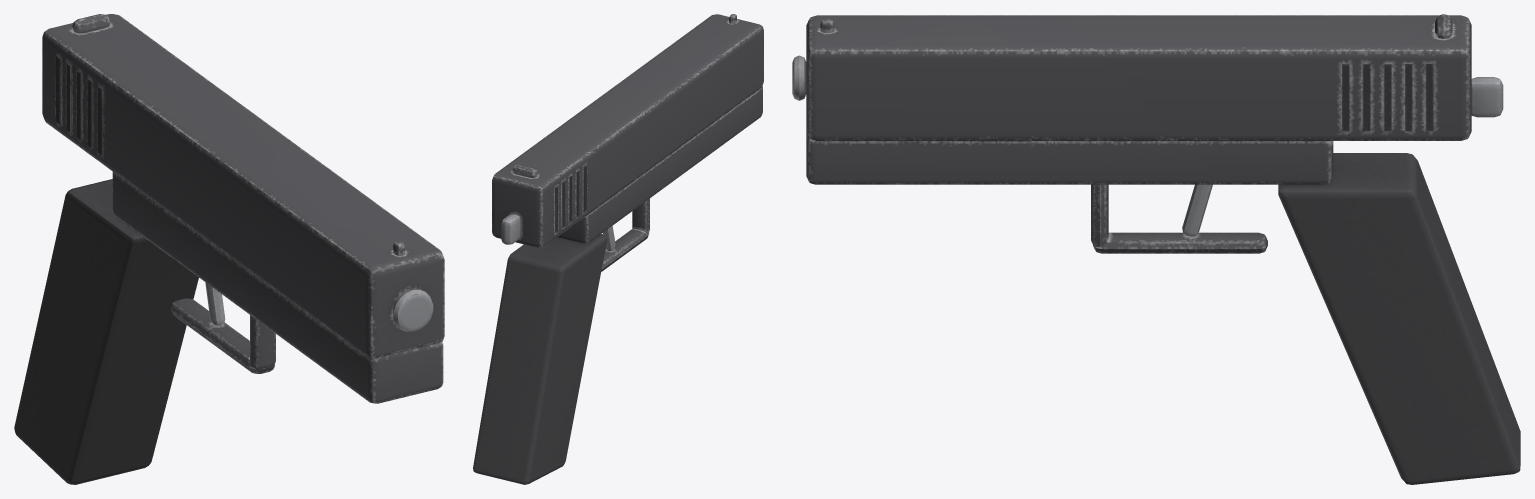
3 renders of one model, left to right at view 1: azimuth 30°, elevation 25°; view 2: azimuth 150°, elevation 25°; view 3: azimuth 270°, elevation 25°, orthographic. The views are drawn at different scales.
Parts seen in each view (by area): view 1: cz75; view 2: cz75; view 3: cz75.
Boxes of the visible parts, left/top/right/bottom form: cz75: left=14, top=14, right=444, bottom=484; cz75: left=473, top=14, right=763, bottom=484; cz75: left=792, top=14, right=1520, bottom=484.
Bounding box in the file's own units: 0.028 × 0.1412 × 0.2079.
